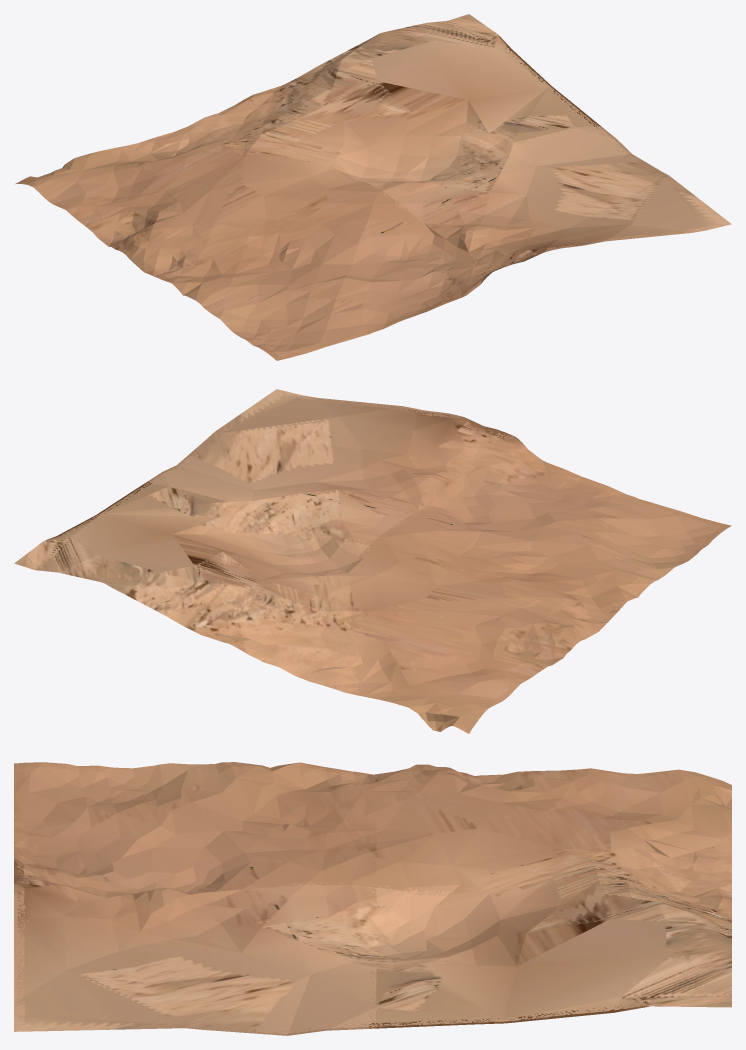
3 views of the same model, one above another, from view 1: azimuth 30°, elevation 25°; view 2: azimuth 150°, elevation 25°; view 3: azimuth 270°, elevation 25° (orthographic). The views are drawn at different scales.
Size of the model in its own units: 2.09 by 0.3074 by 2.09.
2 materials, 2 textured.
